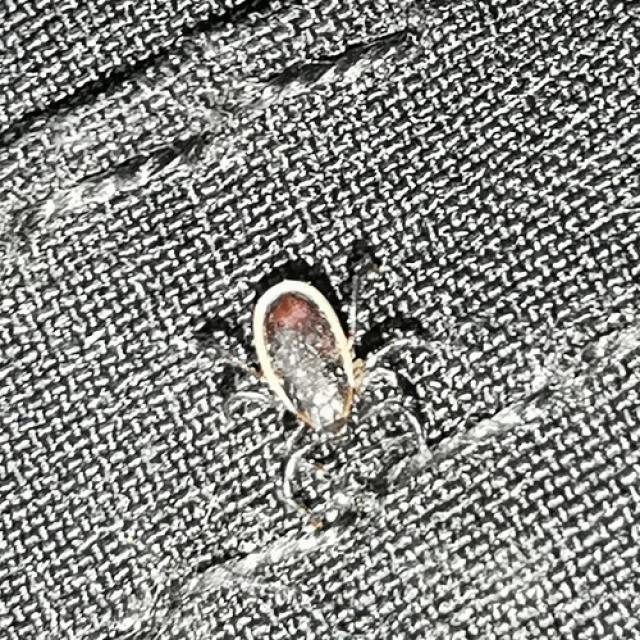Ixodes Ricinus-M: (219, 273, 435, 499)
